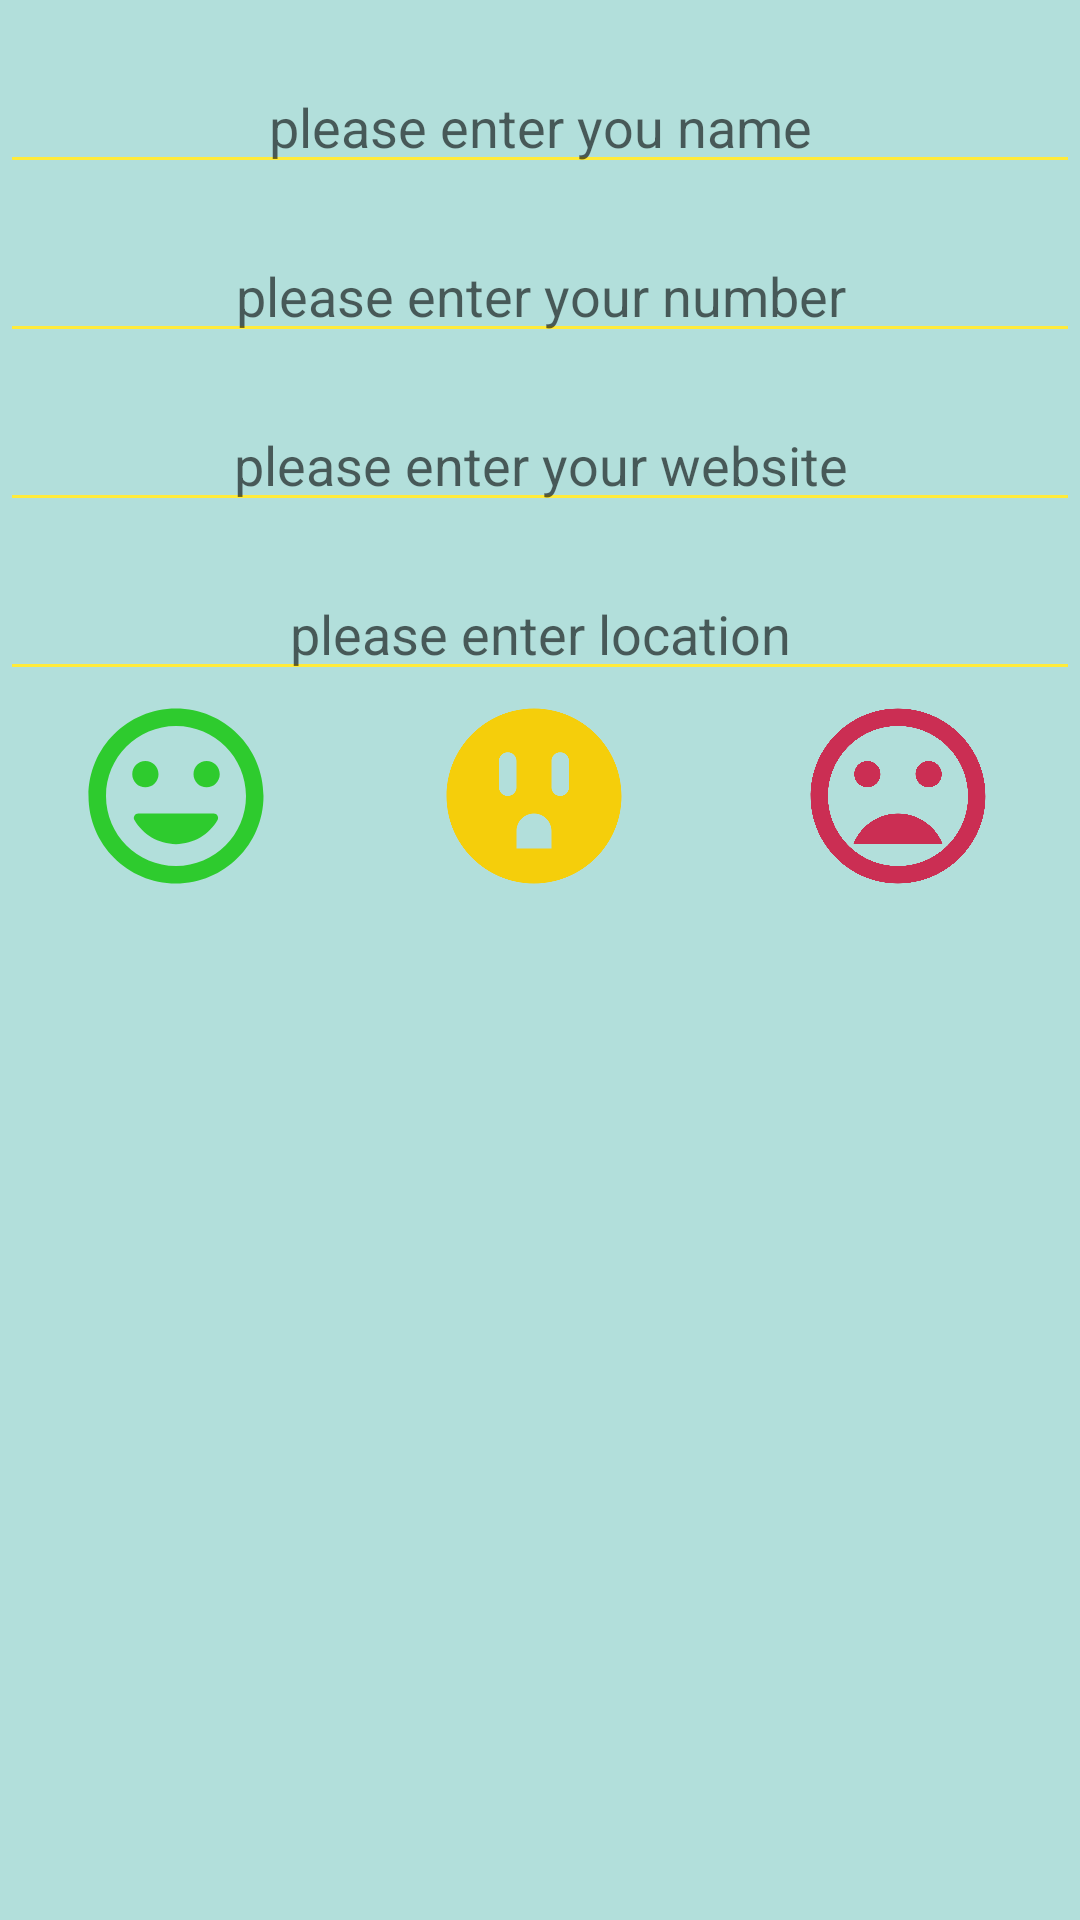

Screen size 1080 x 1920. Icon name, then its box in pixels as (x1, y1, x2, y2):
mood: (88, 708, 264, 884)
mood bad: (810, 708, 986, 884)
outlet: (446, 708, 622, 884)
